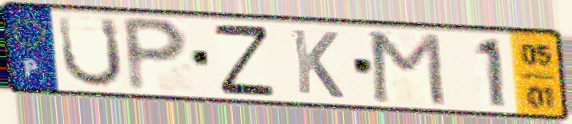1: (471, 36, 509, 109)
K: (288, 26, 347, 101)
M: (368, 29, 449, 109)
P: (119, 14, 192, 95)
U: (55, 13, 126, 90)
Z: (210, 22, 279, 97)
